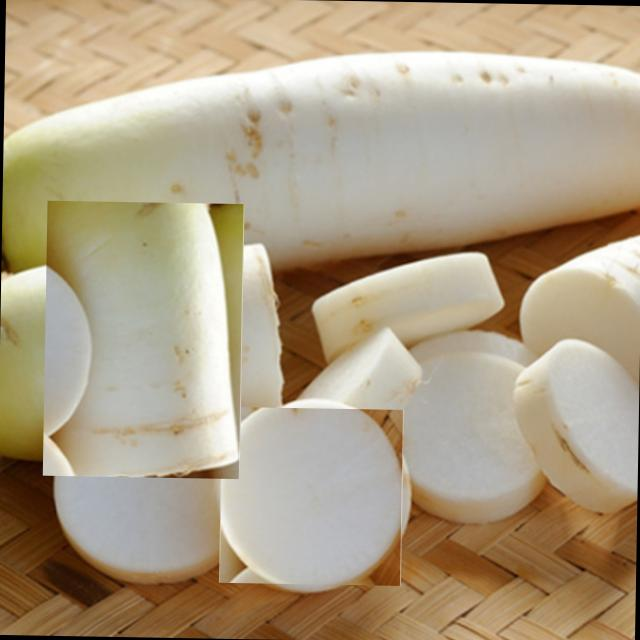radish: (22, 219, 263, 460), (219, 405, 401, 588), (54, 386, 223, 582)
